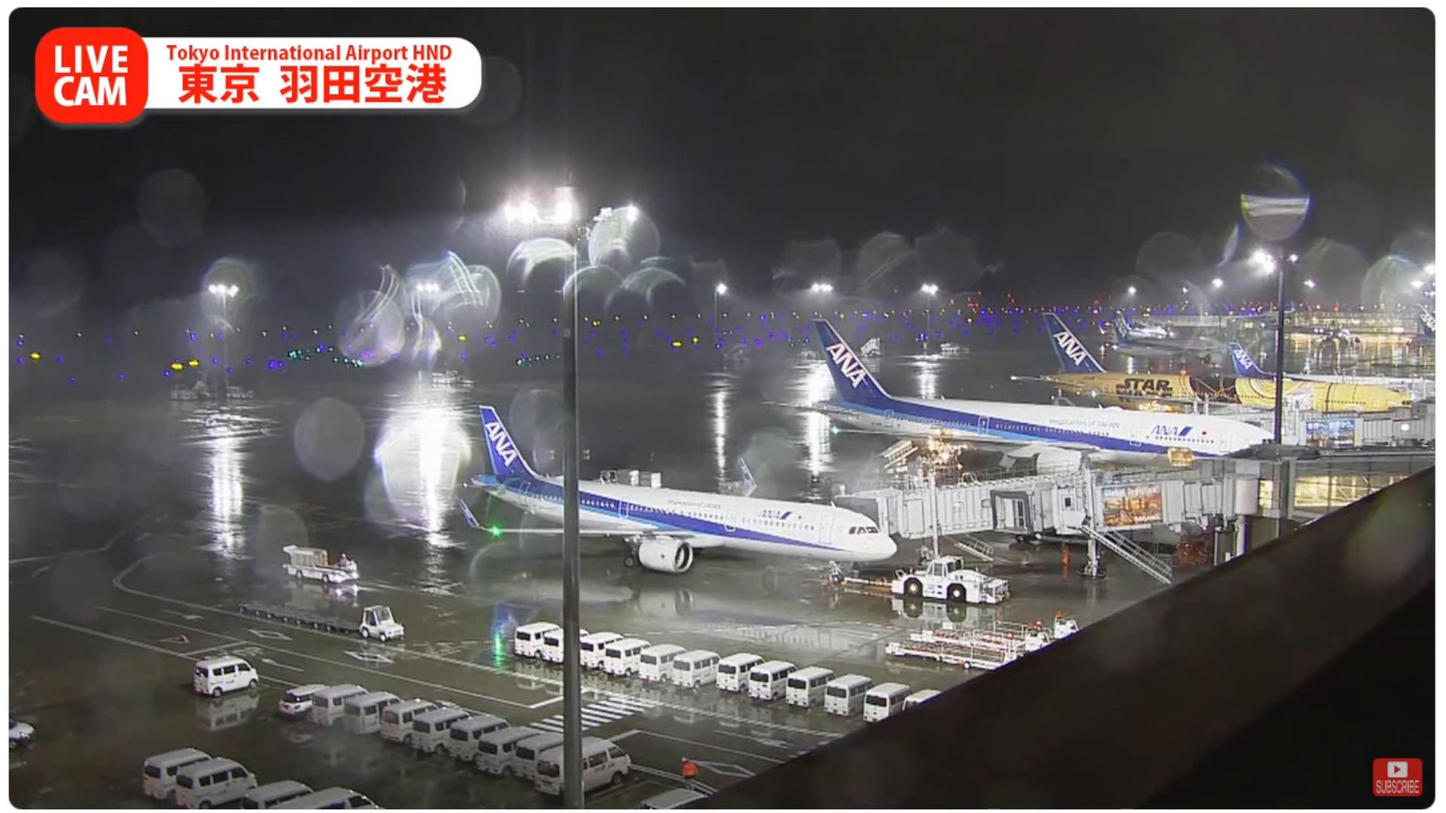APS: (888, 552, 1008, 605)
Aerobridge: (839, 461, 1195, 539), (988, 472, 1227, 537)
Airplane: (461, 406, 899, 585)
Baggage truck: (282, 544, 358, 585)
Dolly: (235, 599, 359, 631)
JCPL: (911, 618, 1081, 655), (884, 634, 1027, 672)
Tractor: (359, 608, 401, 638)
Window: (1291, 475, 1415, 508)
